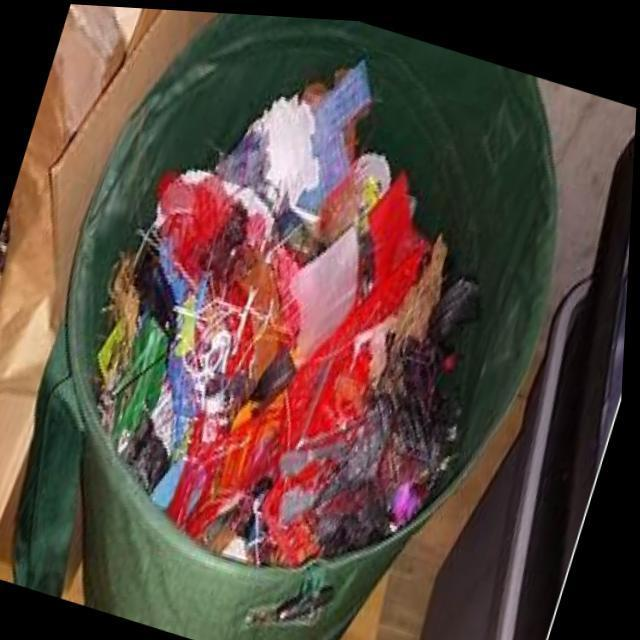Garbage: (100, 55, 481, 563)
Plastic: (101, 55, 479, 562)
